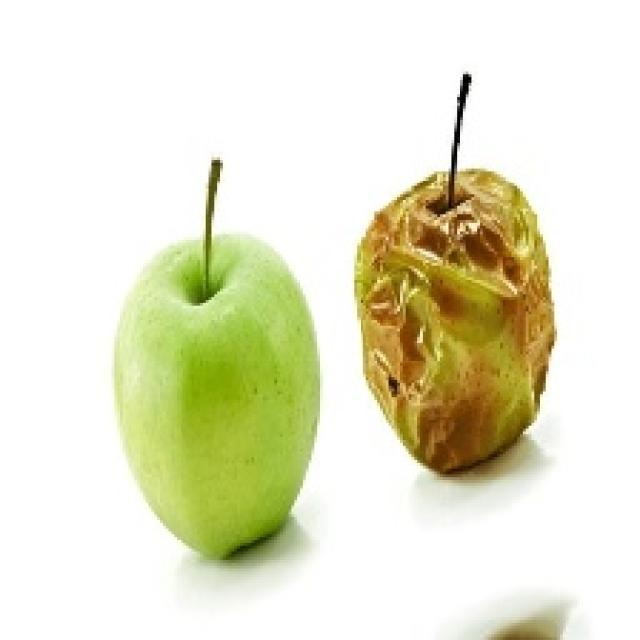50-_ripeness: (112, 233, 320, 562)
rotten_apple: (358, 175, 553, 472)
